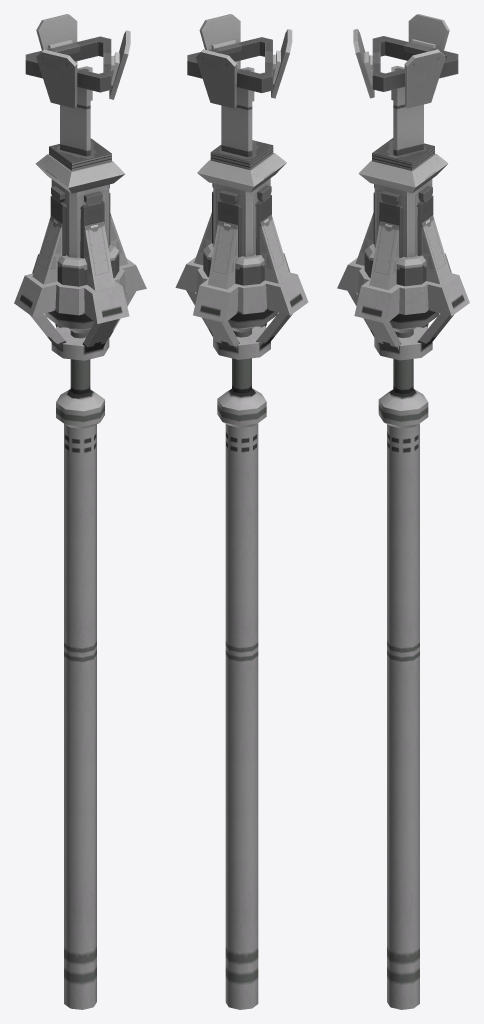
The model's file is lighthouse.glb.
3 renders of one model, left to right at view 1: azimuth 30°, elevation 25°; view 2: azimuth 150°, elevation 25°; view 3: azimuth 330°, elevation 25°, orthographic.
Parts seen in each view (by area): view 1: lighthouse-b, lighthouse-a; view 2: lighthouse-b, lighthouse-a; view 3: lighthouse-b, lighthouse-a.
Boxes of the visible parts, left/top/right/bottom form: lighthouse-b: left=14, top=254, right=146, bottom=1009; lighthouse-a: left=25, top=14, right=130, bottom=290; lighthouse-b: left=175, top=253, right=308, bottom=1009; lighthouse-a: left=187, top=14, right=292, bottom=289; lighthouse-b: left=337, top=253, right=469, bottom=1009; lighthouse-a: left=353, top=14, right=458, bottom=290.
Bounding box in the file's own units: 1.6 × 12.88 × 1.6.
2 materials, 2 textured.
